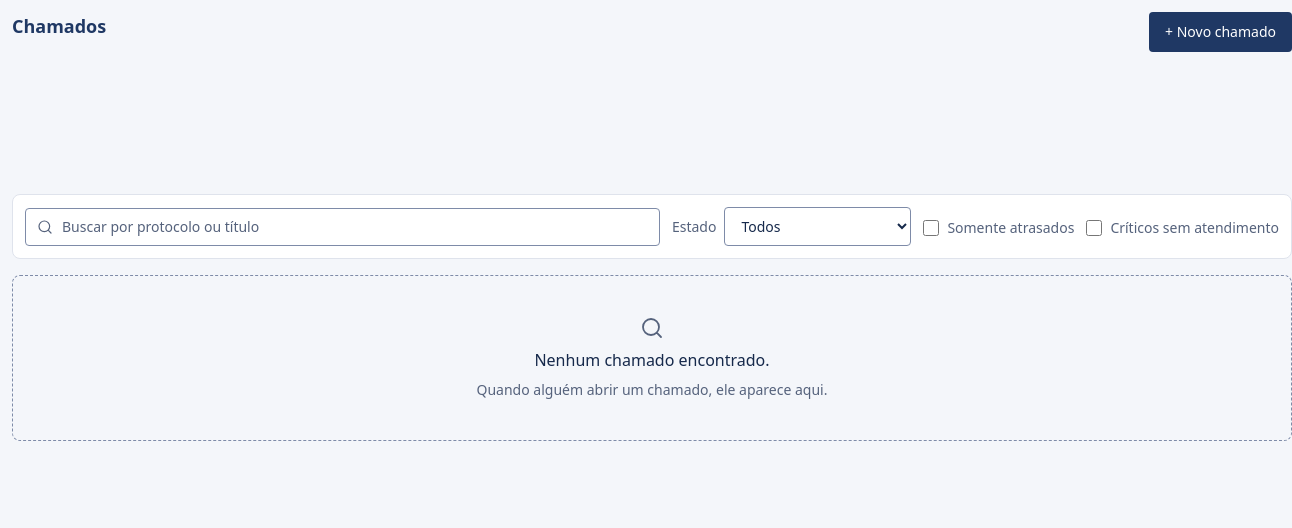
Estado vazio e carregamento › distingue "ainda não há nada" de "o filtro não achou nada"
Expected: the text "Nenhum chamado encontrado." is shown, top-left (534, 348), bottom-right (770, 372)
Expected: the text "Quando alguém abrir um chamado, ele aparece aqui." is shown, top-left (476, 380), bottom-right (828, 400)
Com filtro: a saída provável é afrouxar o filtro, e o botão fica ali.
Click the checkbox labelled "Somente atrasados" at {"x": 931, "y": 228}, box top-left (923, 220), bottom-right (939, 236)
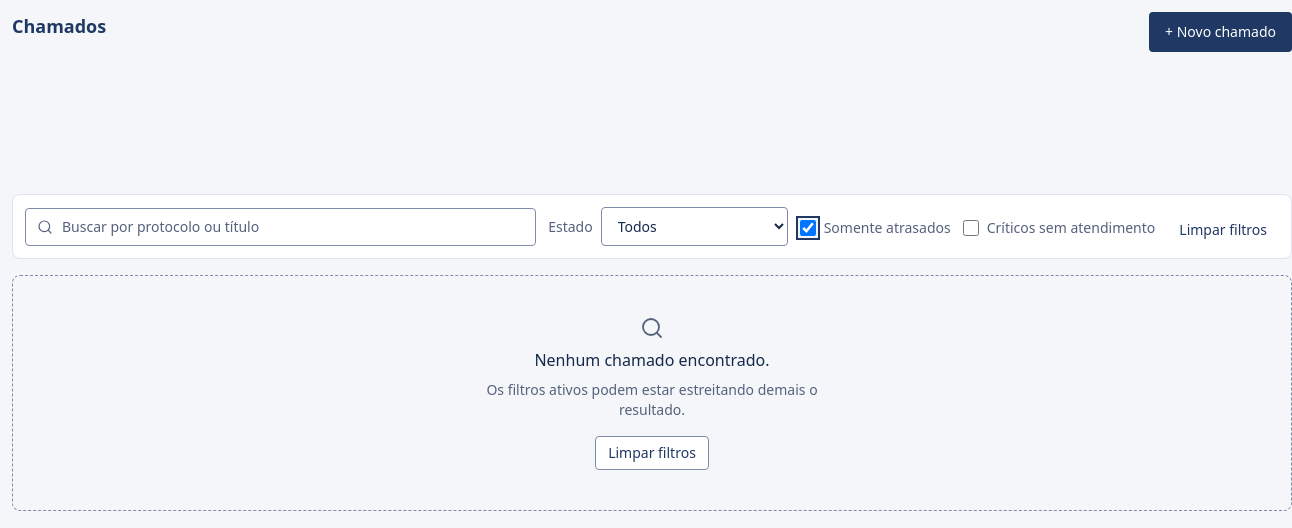
Expected: the text "filtros ativos podem estar estreitando" is shown, top-left (486, 380), bottom-right (818, 419)
Expected: the button "Limpar filtros" next to "Críticos sem atendimento" is shown, top-left (1167, 214), bottom-right (1279, 246)
